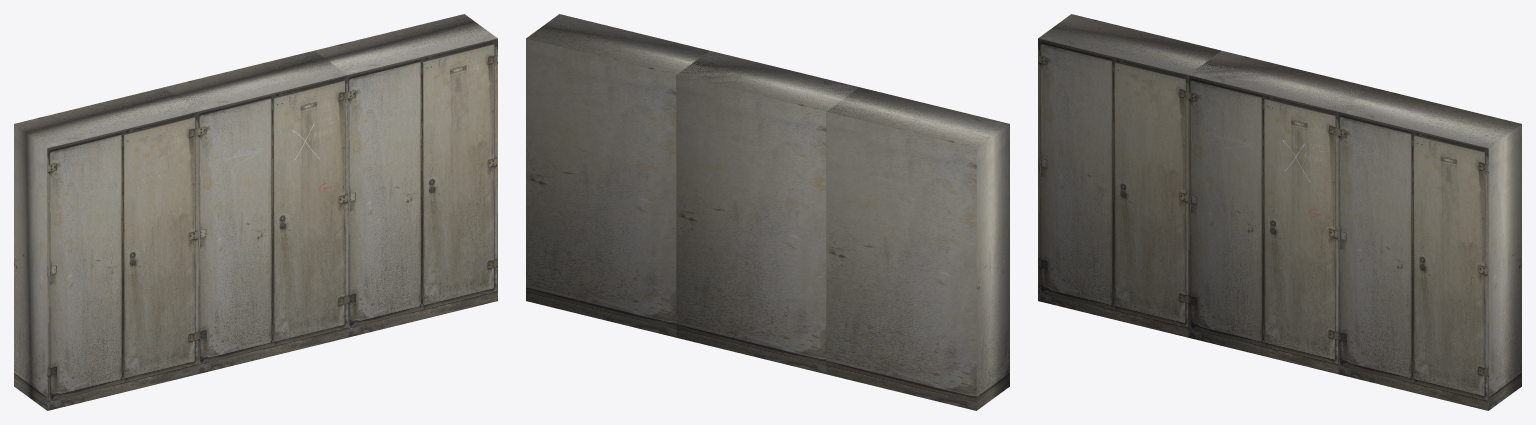
File: control_box_0001.fbx
The picture shows the model from 3 angles, left to right: view 1: azimuth 30°, elevation 25°; view 2: azimuth 150°, elevation 25°; view 3: azimuth 330°, elevation 25°; orthographic projection.
Parts seen in each view (by area): view 1: control_box_0001d, control_box_0001a; view 2: control_box_0001d, control_box_0001a; view 3: control_box_0001d, control_box_0001a.
Part boxes in pixels (x1,y1,x2,y2): control_box_0001d: [14, 14, 497, 410]; control_box_0001a: [164, 51, 347, 353]; control_box_0001d: [526, 14, 1009, 410]; control_box_0001a: [676, 51, 858, 373]; control_box_0001d: [1038, 14, 1521, 410]; control_box_0001a: [1188, 51, 1370, 373].
Bounding box in the file's own units: 365 × 203 × 46.83.
